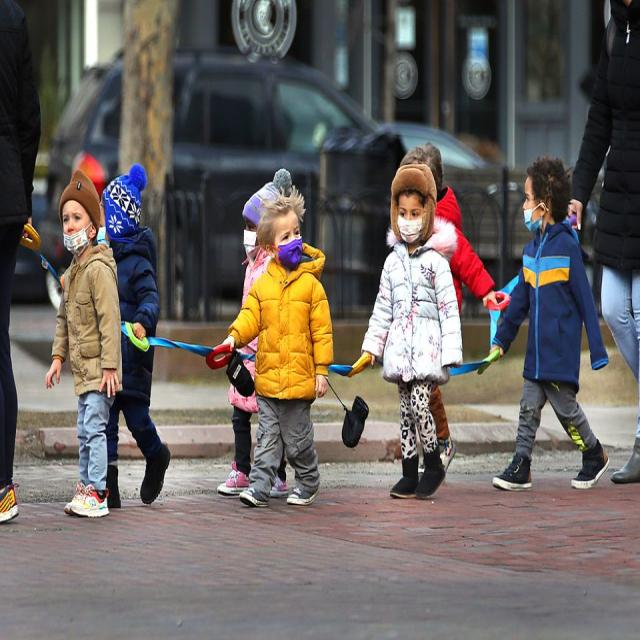Person: (490, 157, 610, 491), (562, 0, 639, 483), (222, 197, 334, 508), (362, 163, 464, 498), (45, 171, 124, 519), (99, 167, 171, 507), (217, 168, 291, 496), (0, 0, 42, 521)
